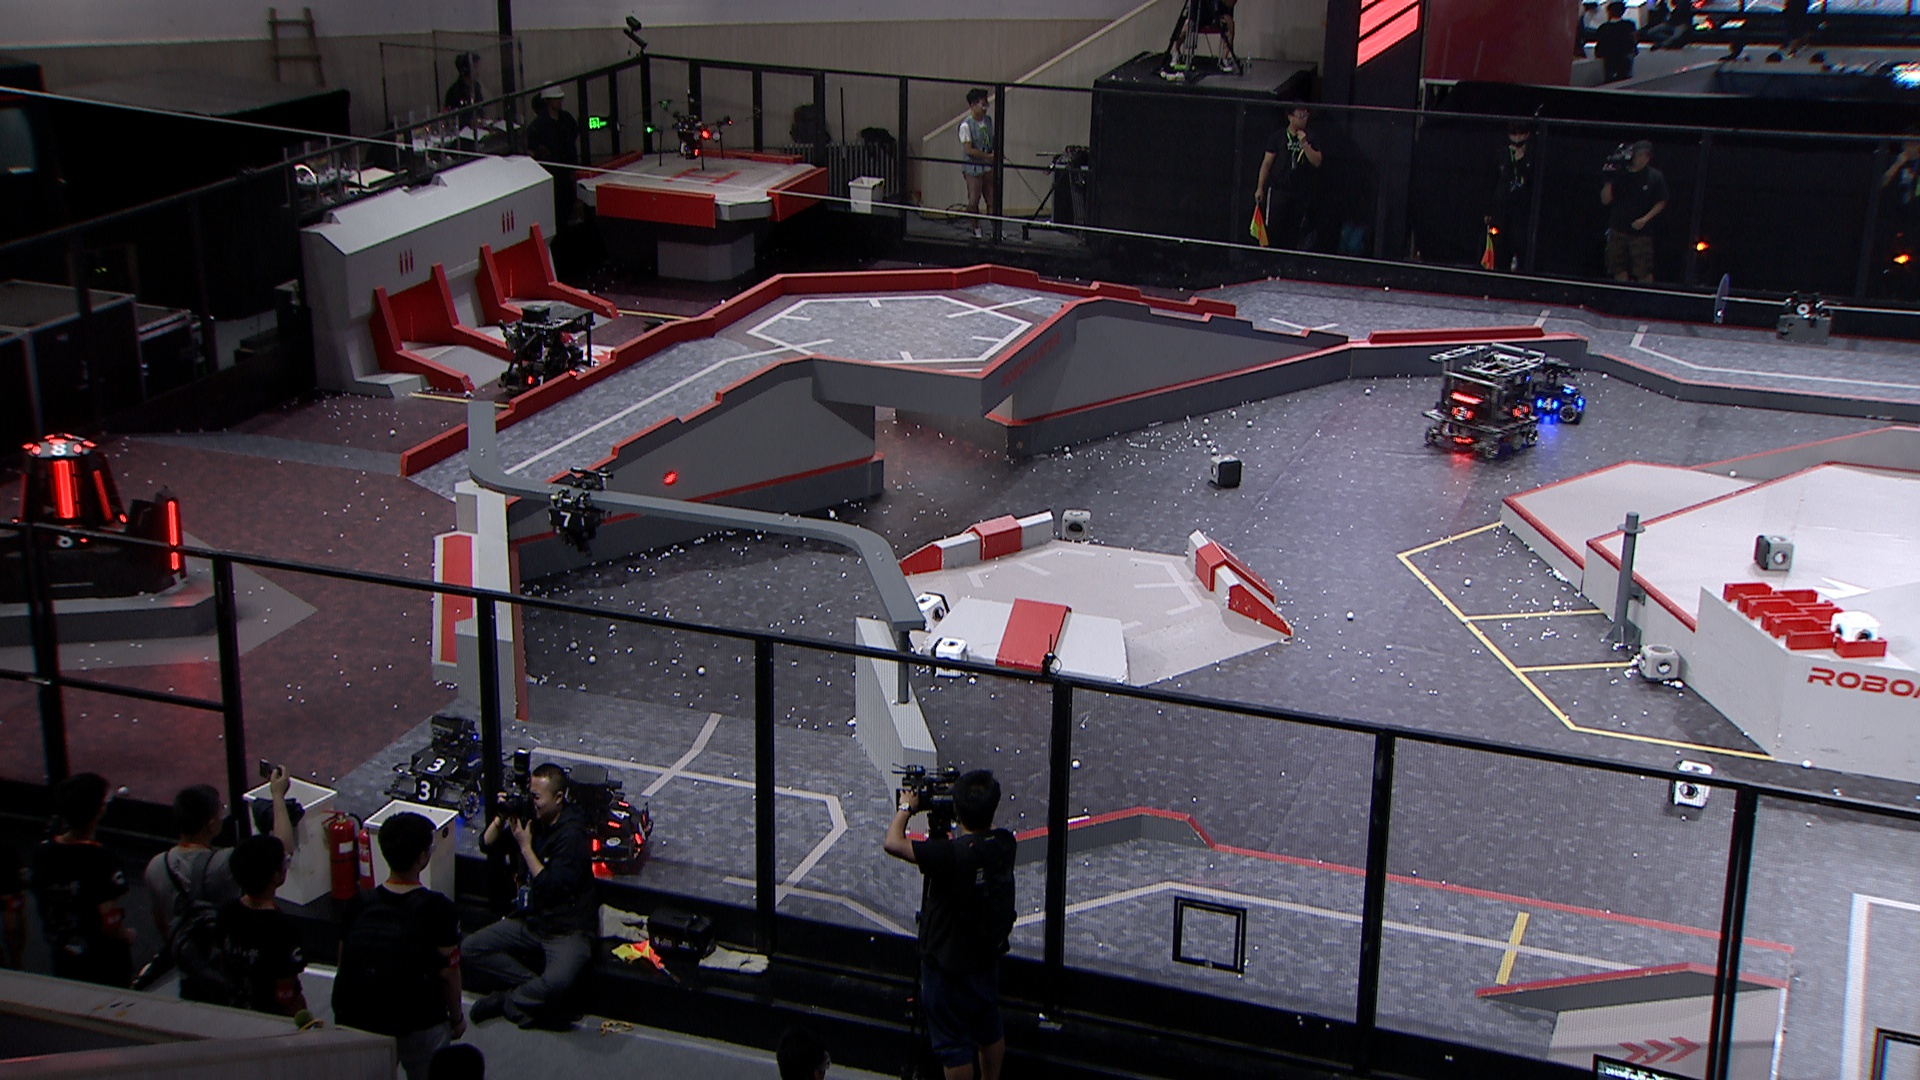armor: (49, 458, 83, 520), (90, 467, 117, 522), (164, 498, 182, 568), (415, 756, 462, 777), (32, 440, 82, 458), (46, 531, 91, 550), (547, 508, 585, 529), (604, 799, 632, 828), (15, 469, 29, 524), (411, 778, 440, 804), (632, 811, 651, 847), (1447, 404, 1476, 423), (524, 372, 551, 390), (566, 363, 593, 378), (1534, 396, 1561, 411), (1560, 378, 1578, 394), (1513, 404, 1531, 418)
car: (384, 705, 520, 822), (1422, 339, 1547, 458), (533, 765, 659, 869), (496, 301, 603, 404), (1513, 357, 1586, 423)
watcher: (545, 465, 617, 564)
